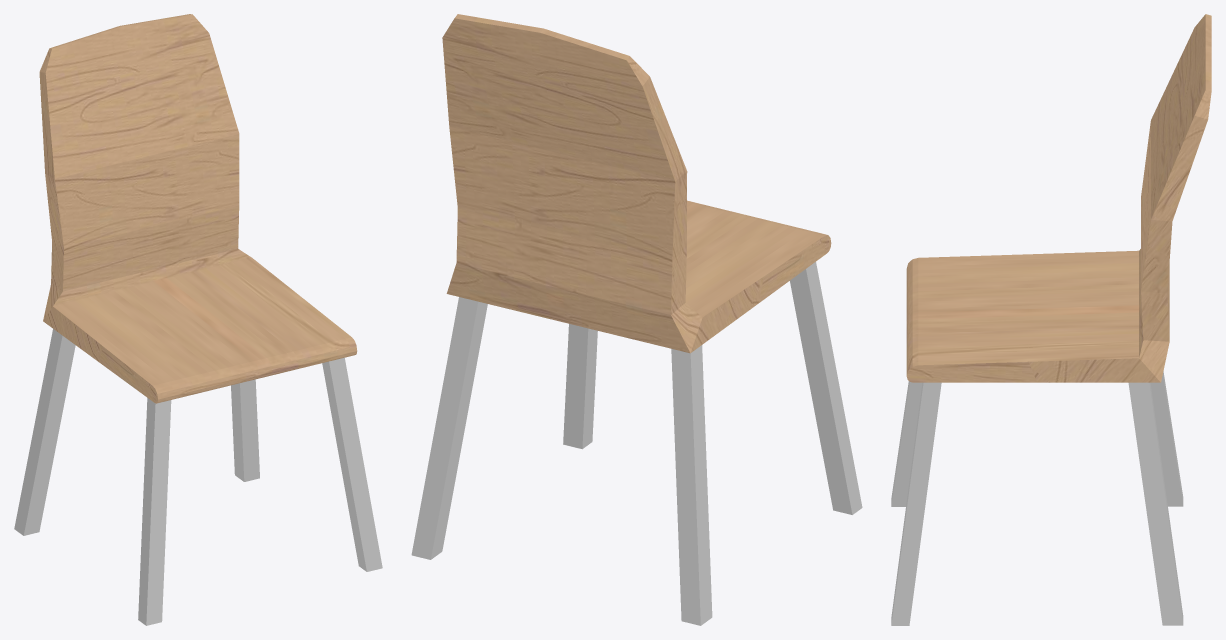
The model's file is chair.glb.
3 renders of one model, left to right at view 1: azimuth 30°, elevation 25°; view 2: azimuth 150°, elevation 25°; view 3: azimuth 270°, elevation 25°, orthographic. The views are drawn at different scales.
Visible parts, largest first — view 1: Chair; view 2: Chair; view 3: Chair.
Part boxes in pixels (<box>): Chair: <box>14,14,382,625</box>; Chair: <box>411,14,862,625</box>; Chair: <box>891,14,1211,625</box>.
Bounding box in the file's own units: 0.5043 × 0.9514 × 0.535.
Materials: 1 (1 with a texture image).
